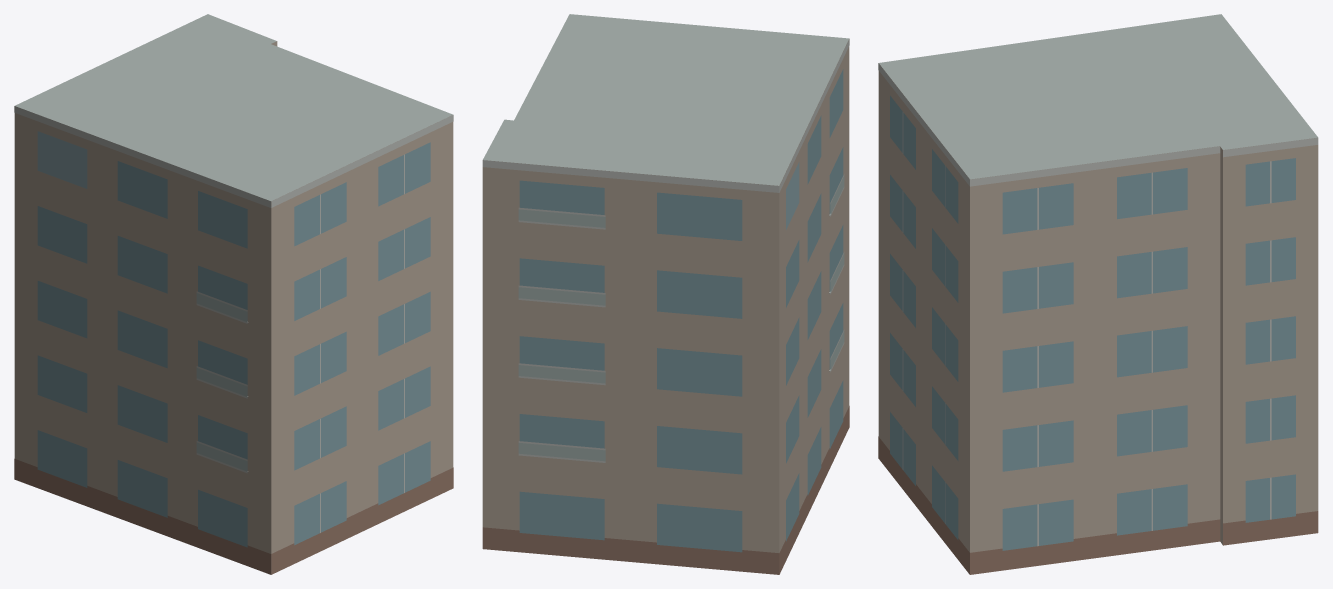
Rendered from survey-upis-32920842.glb.
The picture shows the model from 3 angles, left to right: view 1: azimuth 30°, elevation 25°; view 2: azimuth 150°, elevation 25°; view 3: azimuth 270°, elevation 25°; orthographic projection. The views are drawn at different scales.
Parts seen in each view (by area): view 1: survey-upis-32920842.tmp; view 2: survey-upis-32920842.tmp; view 3: survey-upis-32920842.tmp.
Boxes of the visible parts, bbox=[...] form: survey-upis-32920842.tmp: bbox=[14, 14, 453, 574]; survey-upis-32920842.tmp: bbox=[482, 14, 849, 574]; survey-upis-32920842.tmp: bbox=[878, 14, 1318, 574].
Bounding box in the file's own units: 12.03 × 13.4 × 13.52.
